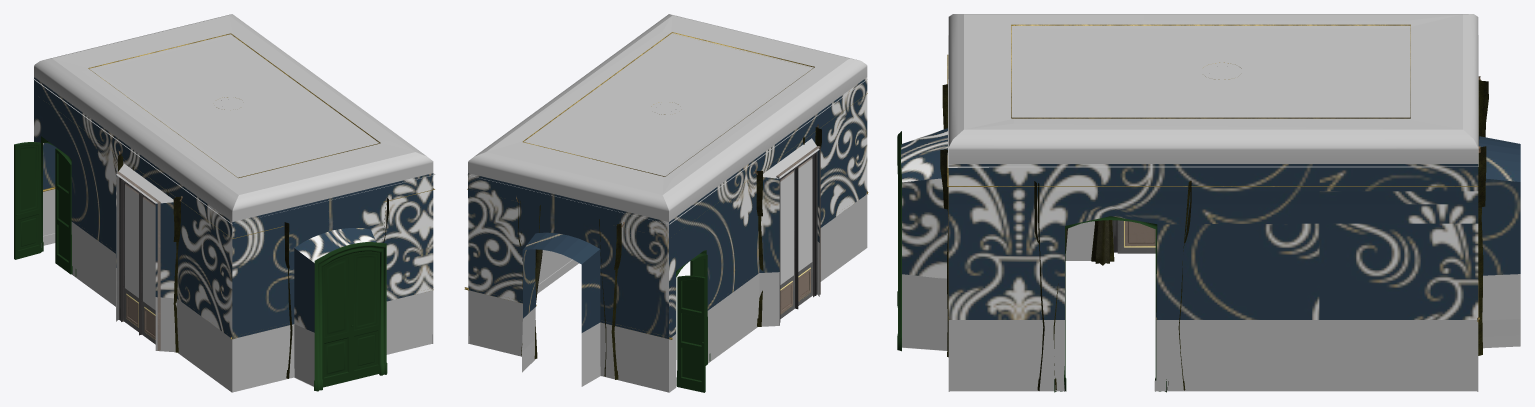
Rendered from Avant-Sala_v3.fbx.
3 views of the same model, side by side, from view 1: azimuth 30°, elevation 25°; view 2: azimuth 150°, elevation 25°; view 3: azimuth 270°, elevation 25° (orthographic). The views are drawn at different scales.
Parts seen in each view (by area): view 1: Salo Verd.004, Salo Verd._Sostre.001, PortaVidriera_001.002, Porta_fusta_PE_001.003, Porta_fusta_PD_001.003, Porta_fusta_Marc_001.021, Porta_fusta_Marc_001.005, Porta_fusta_Marc_001.022, Motllura_sostre.001, Cortina_1.002, Cortina_1.007, Motllura Superior_001.005; view 2: Salo Verd.004, Salo Verd._Sostre.001, PortaVidriera_001.002, Porta_fusta_Marc_001.021, Cortina_1.006, Motllura_sostre.001, Cortina_1.002, Porta_fusta_Marc_001.022, Motllura Superior_001.005; view 3: Salo Verd.004, Salo Verd._Sostre.001, Cortina_1.006, Motllura_sostre.001, PortaVidriera_001.002, Motllura Superior_001.005, Cortina_1.005, Porta_fusta_Marc_001.005, Cortina_1.007, Cortina_1.002, Porta_fusta_PD_001.006, Motllura Superior_001.001.
Part boxes in pixels (x1,y1,x2,y2): Salo Verd.004: [34, 77, 433, 392]; Salo Verd._Sostre.001: [34, 14, 433, 221]; PortaVidriera_001.002: [116, 172, 160, 350]; Porta_fusta_PE_001.003: [322, 254, 351, 387]; Porta_fusta_PD_001.003: [351, 251, 379, 380]; Porta_fusta_Marc_001.021: [14, 142, 41, 259]; Porta_fusta_Marc_001.005: [314, 242, 387, 391]; Porta_fusta_Marc_001.022: [55, 148, 72, 274]; Motllura_sostre.001: [88, 33, 380, 178]; Cortina_1.002: [118, 151, 182, 352]; Cortina_1.007: [284, 197, 388, 378]; Motllura Superior_001.005: [33, 79, 435, 224]; Salo Verd.004: [468, 77, 867, 392]; Salo Verd._Sostre.001: [468, 14, 867, 221]; PortaVidriera_001.002: [776, 146, 820, 324]; Porta_fusta_Marc_001.021: [677, 275, 705, 392]; Cortina_1.006: [516, 196, 624, 379]; Motllura_sostre.001: [522, 32, 814, 176]; Cortina_1.002: [755, 124, 821, 326]; Porta_fusta_Marc_001.022: [690, 254, 707, 365]; Motllura Superior_001.005: [467, 79, 867, 224]; Salo Verd.004: [901, 128, 1520, 391]; Salo Verd._Sostre.001: [948, 14, 1478, 163]; Cortina_1.006: [1478, 76, 1488, 355]; Motllura_sostre.001: [1011, 24, 1410, 118]; PortaVidriera_001.002: [1112, 220, 1155, 253]; Motllura Superior_001.005: [947, 35, 1478, 167]; Cortina_1.005: [1034, 181, 1191, 390]; Porta_fusta_Marc_001.005: [897, 131, 901, 351]; Cortina_1.007: [940, 84, 948, 357]; Cortina_1.002: [1091, 220, 1114, 265]; Porta_fusta_PD_001.006: [1054, 216, 1166, 392]; Motllura Superior_001.001: [947, 54, 1478, 186].
Bounding box in the file's own units: 632 × 498 × 1093.
